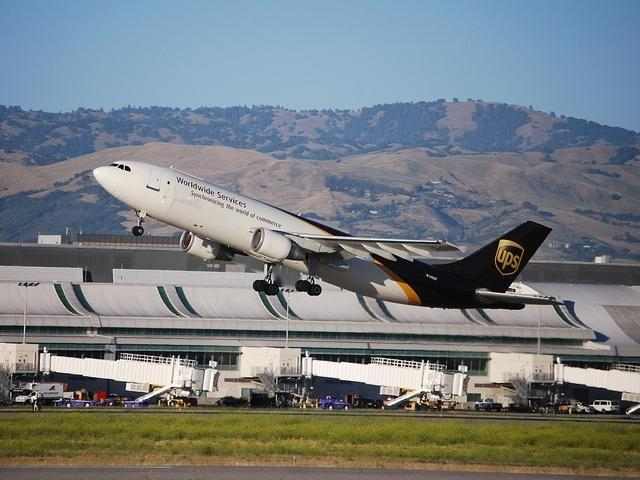car: (319, 397, 352, 411), (475, 396, 503, 412), (588, 400, 620, 414), (568, 401, 596, 413)
truck: (15, 383, 94, 408), (589, 400, 619, 414)
